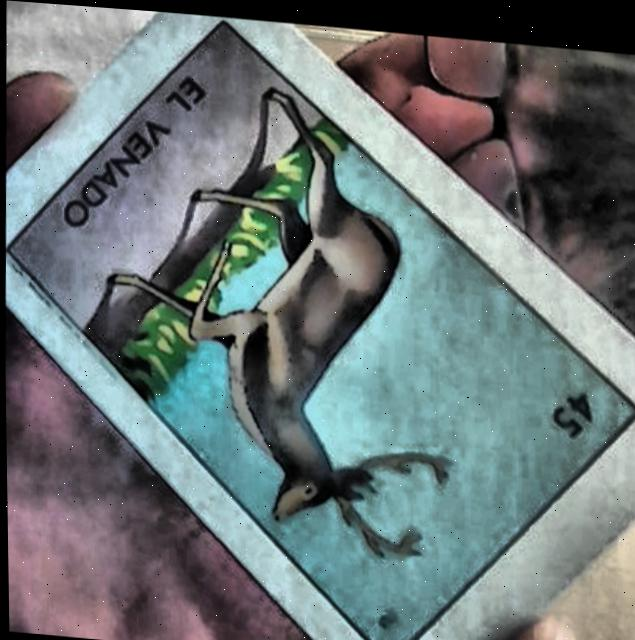El Venado: (12, 17, 634, 640)
